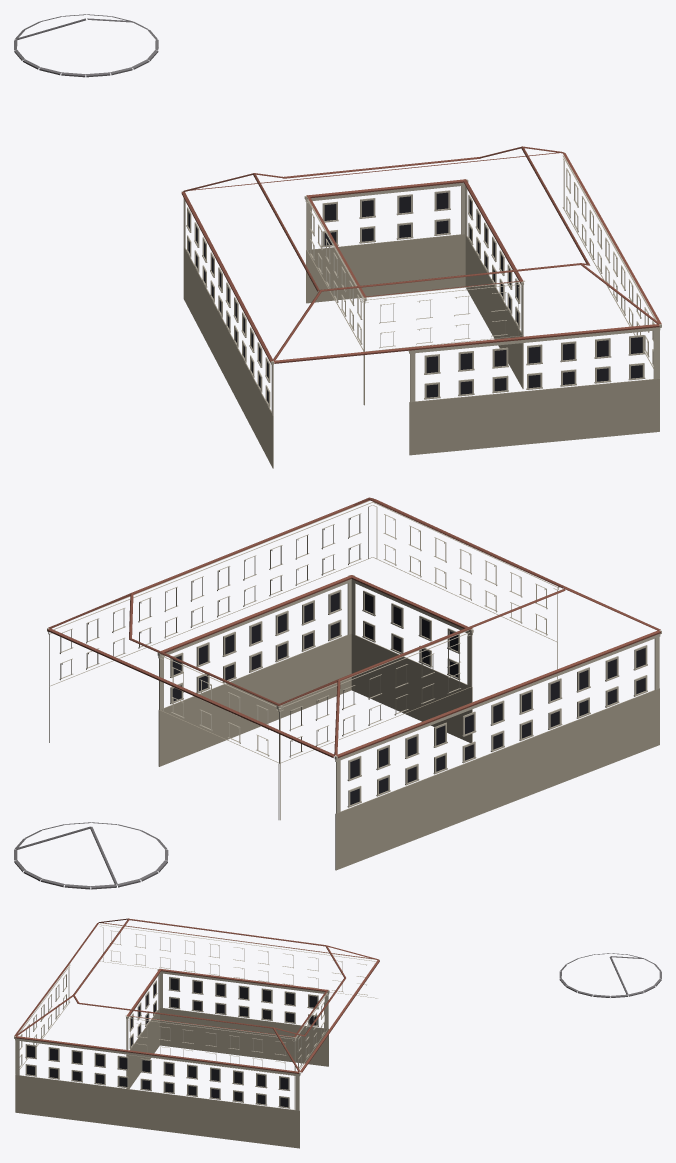
3 renders of one model, top to bottom at view 1: azimuth 30°, elevation 25°; view 2: azimuth 150°, elevation 25°; view 3: azimuth 270°, elevation 25°, orthographic. The views are drawn at different scales.
Parts seen in each view (by area): view 1: detail; view 2: detail; view 3: detail.
Boxes of the visible parts, <box> form: detail: <box>14,14,661,468</box>; detail: <box>14,497,661,889</box>; detail: <box>14,918,661,1148</box>.
Bounding box in the file's own units: 51.82 × 16.84 × 94.09.
